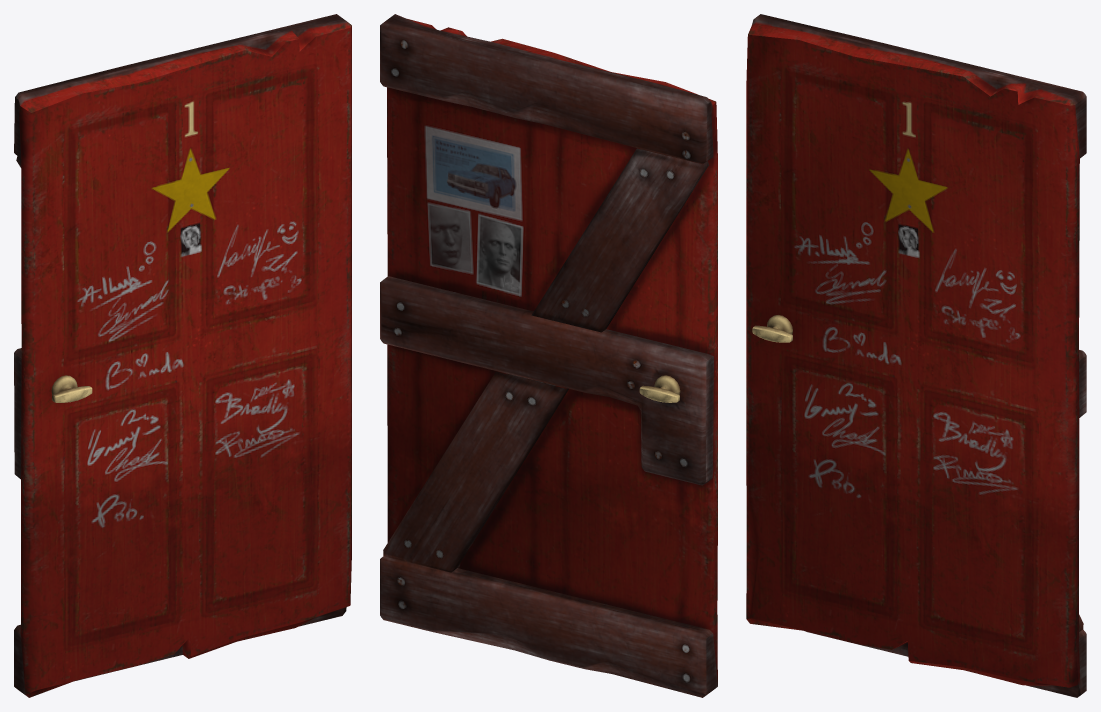
3 views of the same model, side by side, from view 1: azimuth 30°, elevation 25°; view 2: azimuth 150°, elevation 25°; view 3: azimuth 330°, elevation 25° (orthographic).
Parts seen in each view (by area): view 1: WoodenDoor_wall.doorway.door; view 2: WoodenDoor_wall.doorway.door; view 3: WoodenDoor_wall.doorway.door.
Boxes of the visible parts, x1,y1,x2,y2 form: WoodenDoor_wall.doorway.door: [14, 14, 351, 697]; WoodenDoor_wall.doorway.door: [380, 14, 717, 697]; WoodenDoor_wall.doorway.door: [746, 14, 1086, 697].
Size of the model in its own units: 1.2 by 2.1 by 0.2409.
1 material, 1 textured.
